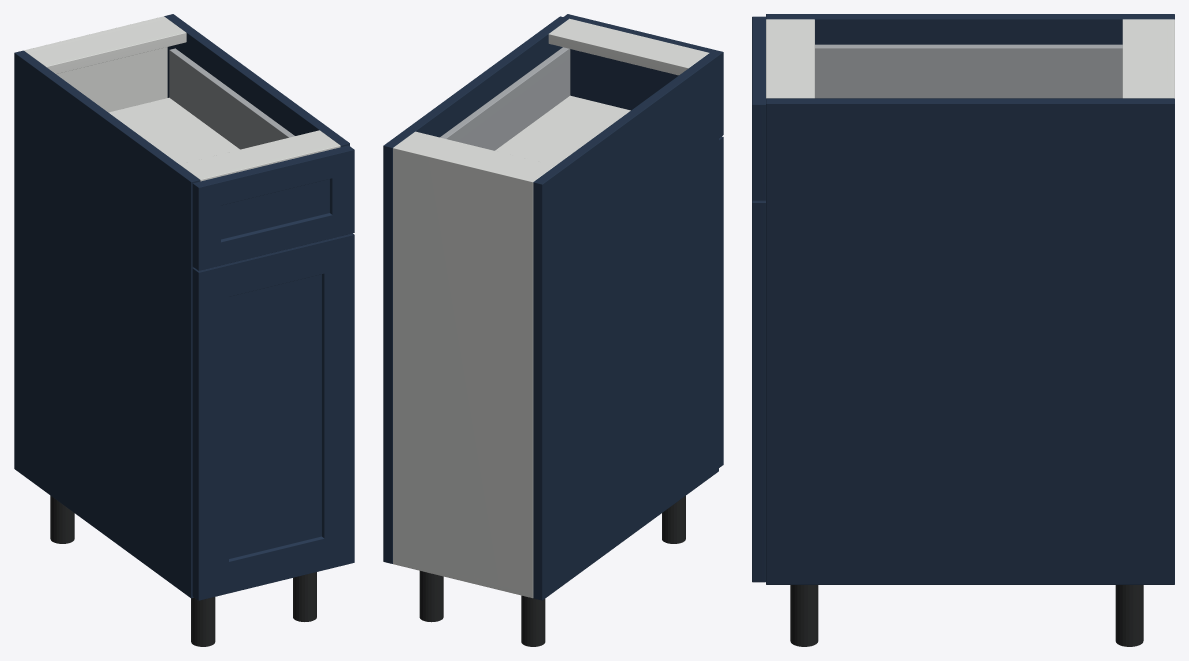
The model's file is oppein-pb-bss-b12.glb.
3 renders of one model, left to right at view 1: azimuth 30°, elevation 25°; view 2: azimuth 150°, elevation 25°; view 3: azimuth 270°, elevation 25°, orthographic. The views are drawn at different scales.
Parts seen in each view (by area): view 1: Cabinet side, Door, Drawer front, Drawer side.001, Cabinet back, Cabinet side.001, Drawer floor, Top support rail, Top support rail.001, Adjustable foot.001, Adjustable foot.003, Adjustable foot; view 2: Cabinet side, Cabinet back, Cabinet side.001, Drawer side.001, Drawer front, Drawer floor, Top support rail.001, Top support rail, Door, Adjustable foot, Adjustable foot.002, Adjustable foot.001 (+1 smaller); view 3: Cabinet side.001, Drawer side, Cabinet side, Door, Top support rail.001, Top support rail, Drawer front, Adjustable foot.002, Adjustable foot.003, Cabinet back.
Part boxes in pixels (bbox=[...]): Cabinet side: bbox=[14, 50, 200, 598]; Door: bbox=[192, 233, 354, 600]; Drawer front: bbox=[192, 145, 354, 270]; Drawer side.001: bbox=[169, 48, 294, 149]; Cabinet back: bbox=[24, 16, 167, 112]; Cabinet side.001: bbox=[164, 14, 349, 146]; Drawer floor: bbox=[108, 97, 239, 164]; Top support rail: bbox=[25, 18, 186, 73]; Top support rail.001: bbox=[179, 130, 340, 181]; Adjustable foot.001: bbox=[191, 597, 215, 646]; Adjustable foot.003: bbox=[293, 572, 316, 621]; Adjustable foot: bbox=[50, 495, 74, 543]; Cabinet side: bbox=[533, 53, 718, 600]; Cabinet back: bbox=[393, 145, 535, 598]; Cabinet side.001: bbox=[383, 16, 568, 563]; Drawer side.001: bbox=[440, 47, 570, 150]; Drawer front: bbox=[563, 14, 723, 137]; Drawer floor: bbox=[495, 95, 630, 165]; Top support rail.001: bbox=[548, 18, 709, 75]; Top support rail: bbox=[396, 131, 554, 179]; Door: bbox=[719, 136, 723, 467]; Adjustable foot: bbox=[521, 595, 545, 646]; Adjustable foot.002: bbox=[419, 571, 443, 622]; Adjustable foot.001: bbox=[662, 496, 685, 543]; Cabinet side.001: bbox=[766, 98, 1174, 584]; Drawer side: bbox=[815, 44, 1122, 98]; Cabinet side: bbox=[766, 14, 1174, 44]; Door: bbox=[752, 200, 765, 582]; Top support rail.001: bbox=[766, 19, 814, 98]; Top support rail: bbox=[1122, 19, 1166, 98]; Drawer front: bbox=[752, 16, 765, 200]; Adjustable foot.002: bbox=[1115, 585, 1143, 646]; Adjustable foot.003: bbox=[790, 585, 818, 646]; Cabinet back: bbox=[1167, 19, 1174, 98].
Bounding box in the file's own units: 0.3048 × 0.8763 × 0.6064.
